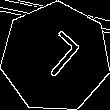L_SW: (28, 28, 83, 86)
